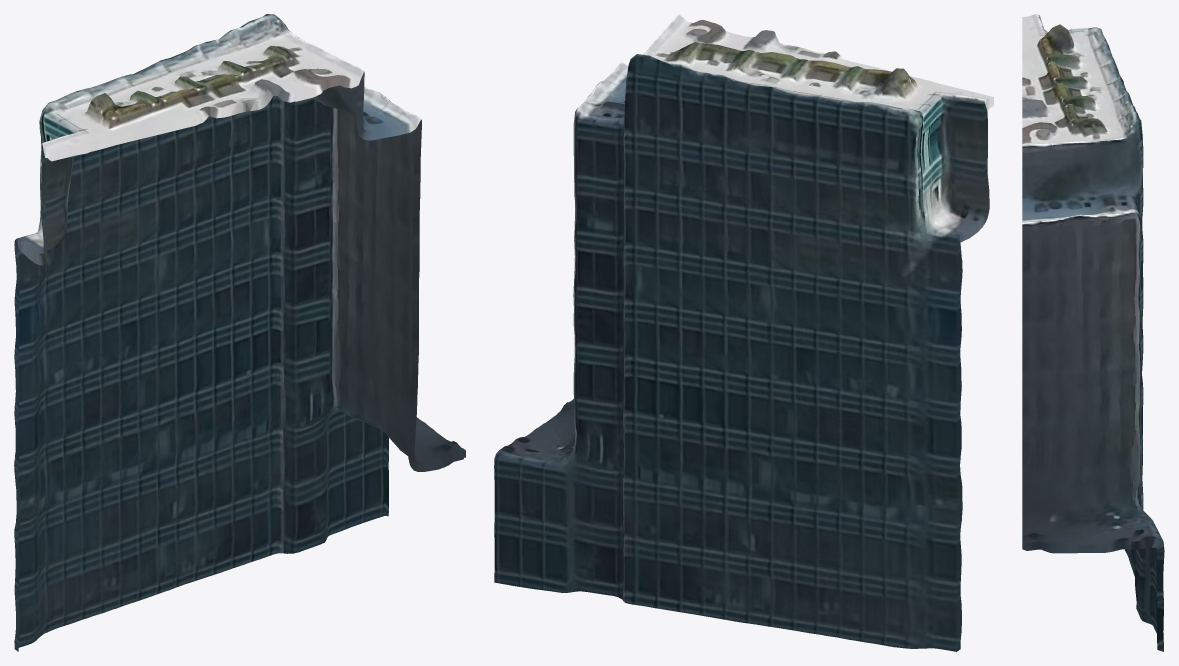
The model's file is z20-167761-405235-h1-yup-uvflip-v3-world.glb.
3 renders of one model, left to right at view 1: azimuth 30°, elevation 25°; view 2: azimuth 150°, elevation 25°; view 3: azimuth 270°, elevation 25°, orthographic. The views are drawn at different scales.
Bounding box in the file's own units: 30.16 × 38.2 × 10.24.
Materials: 1 (1 with a texture image).
